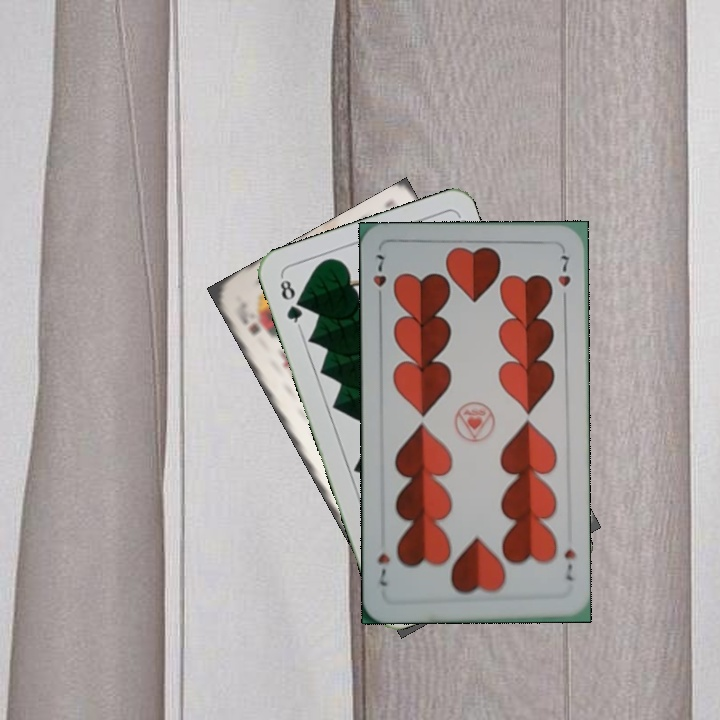G8: (275, 273, 305, 330)
H7: (369, 251, 389, 307), (561, 545, 579, 583)
SK: (235, 297, 263, 338)
